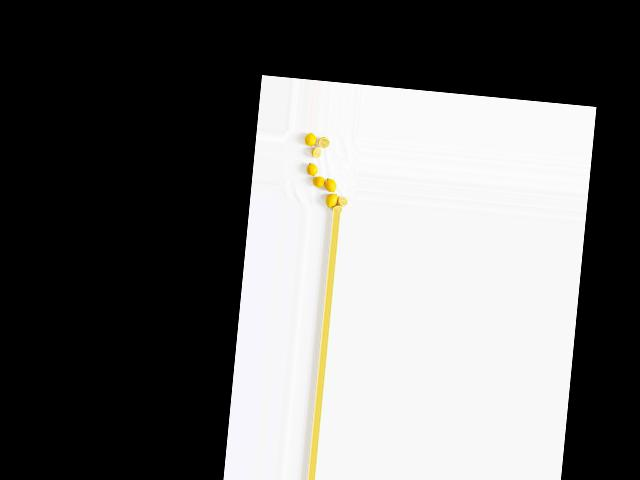lemon: (322, 188, 338, 209)
